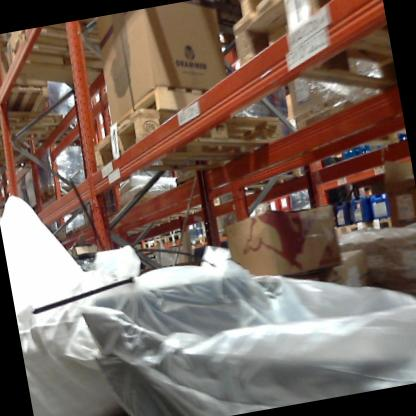pallet: (87, 77, 310, 197), (216, 0, 397, 113), (0, 13, 131, 100), (100, 64, 254, 137), (0, 98, 80, 157), (0, 65, 51, 124), (0, 133, 40, 172), (331, 211, 375, 244), (369, 209, 399, 231), (0, 34, 12, 63)
